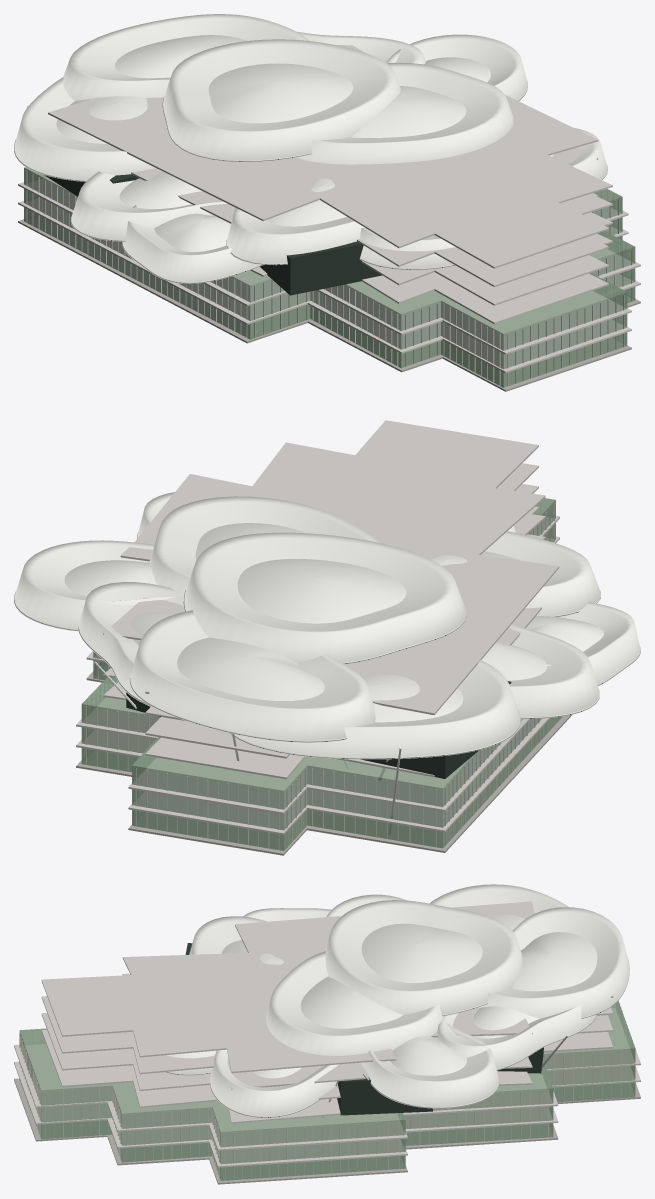
File: justice_house.glb
The picture shows the model from 3 angles, top to bottom: view 1: azimuth 30°, elevation 25°; view 2: azimuth 150°, elevation 25°; view 3: azimuth 270°, elevation 25°; orthographic projection. The views are drawn at different scales.
Visible parts, largest first — view 1: columns, podium_glass; view 2: columns, podium_glass; view 3: columns, podium_glass.
Part boxes in pixels (x1,y1,x2,y2): columns: [14, 14, 640, 391]; podium_glass: [24, 167, 635, 387]; columns: [14, 420, 640, 855]; podium_glass: [81, 498, 561, 850]; columns: [14, 884, 640, 1184]; podium_glass: [19, 1000, 635, 1180].
Bounding box in the file's own units: 108 × 32 × 135.
Materials: 2 (2 with a texture image).
